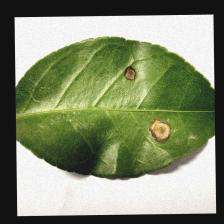canker: (108, 64, 187, 142)
